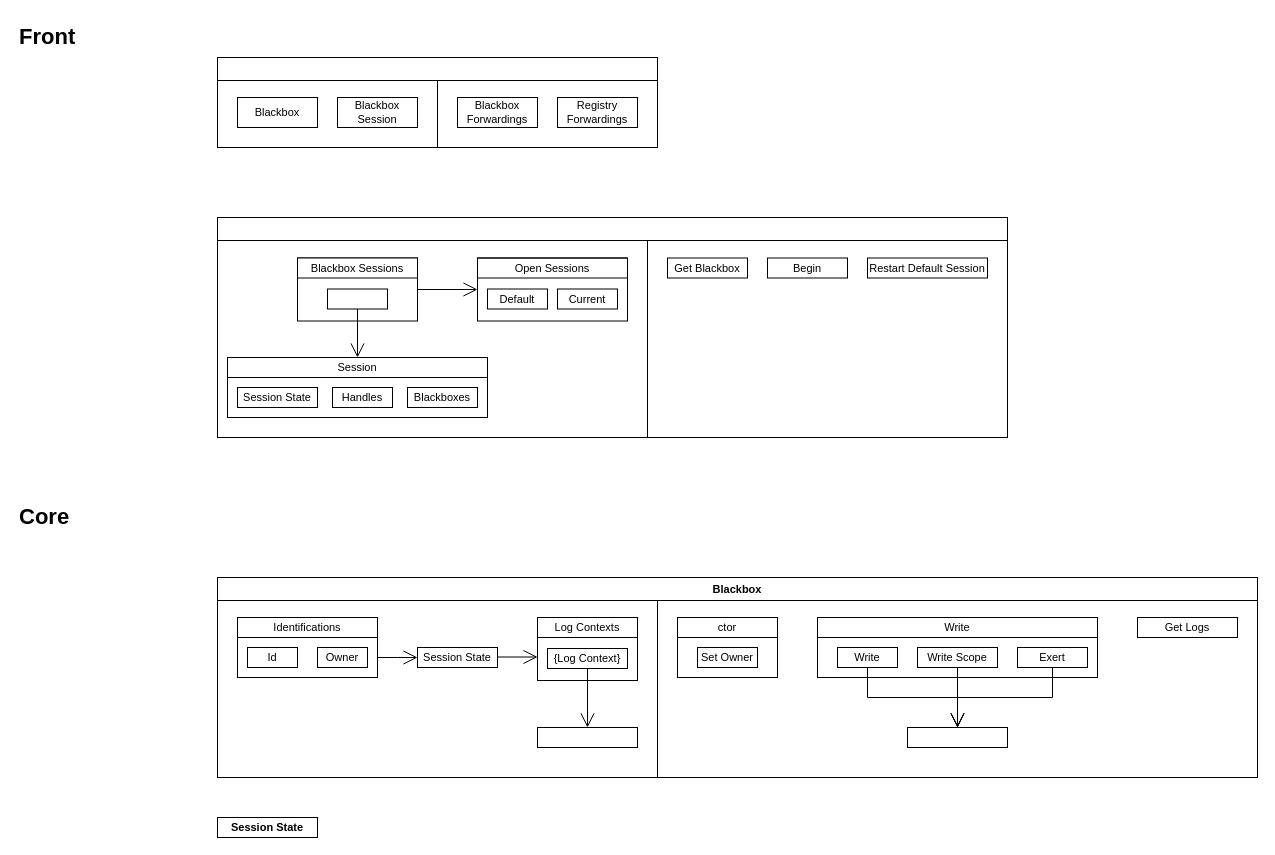
Image size: 1275x855. Some labels were removed from this diagram. Each missing label, with the centre of its shape:
"Blackbox Handle" belongs at point 437,68.
"Blackbox Session Registry" belongs at point 612,228.
"Enqueue Log" belongs at point 957,737.
"Log Data" belongs at point 587,737.
"{Session}" belongs at point 357,298.
